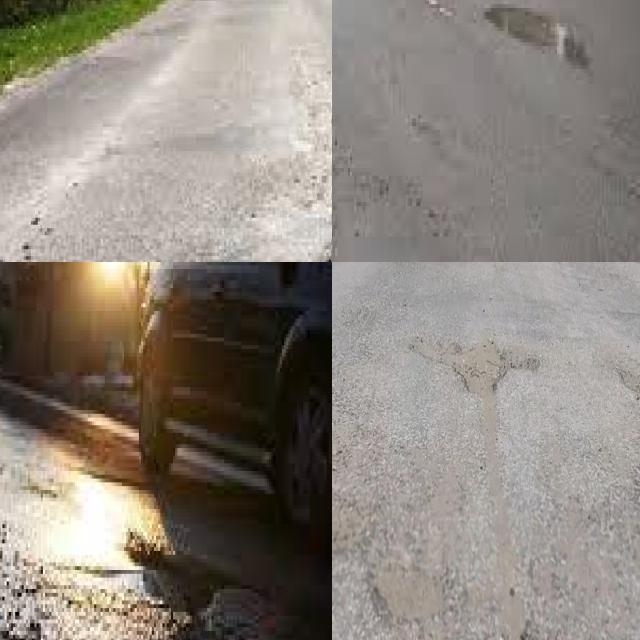Pothole: (411, 330, 511, 396), (368, 557, 456, 625), (146, 554, 221, 613), (487, 8, 570, 58), (617, 370, 640, 405)
